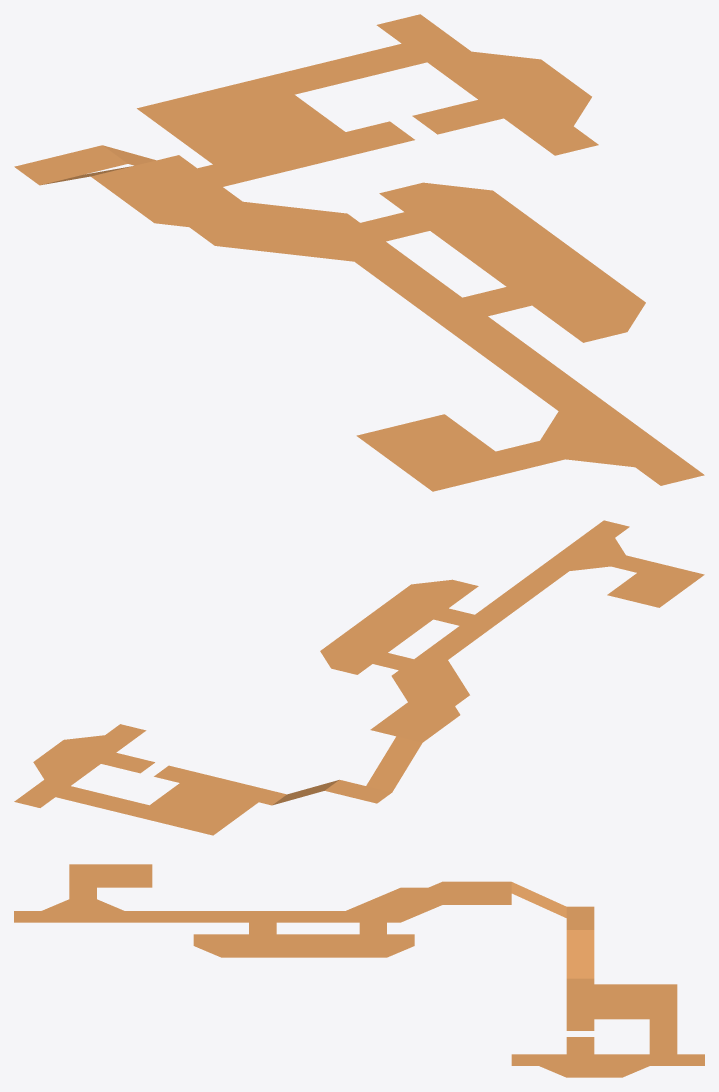
Rendered from Puzzle_001_Roof.fbx.
3 views of the same model, one above another, from view 1: azimuth 30°, elevation 25°; view 2: azimuth 150°, elevation 25°; view 3: azimuth 270°, elevation 25° (orthographic). The views are drawn at different scales.
Visible parts, largest first — view 1: Puzzle_001_Roof; view 2: Puzzle_001_Roof; view 3: Puzzle_001_Roof.
Part boxes in pixels (x1,y1,x2,y2): Puzzle_001_Roof: (14,14,704,491); Puzzle_001_Roof: (14,520,704,835); Puzzle_001_Roof: (14,864,704,1077).
Bounding box in the file's own units: 5600 × 800 × 10000.
